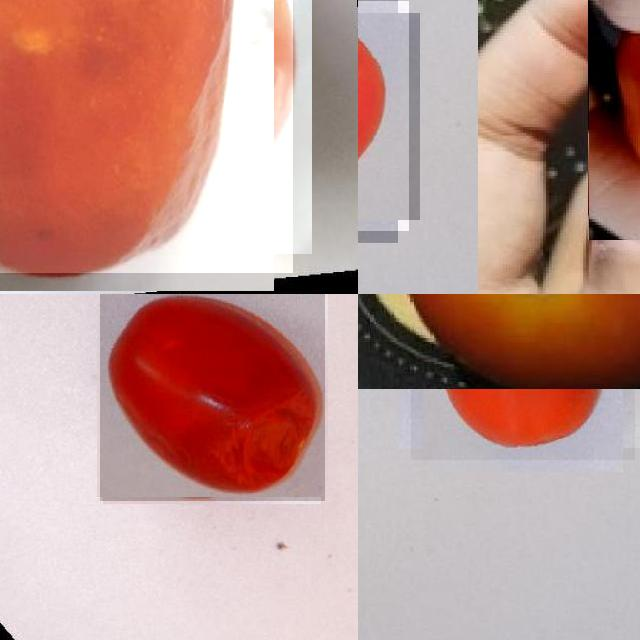1: (100, 294, 324, 500)
Fresh Tomato: (388, 294, 640, 389), (411, 389, 635, 460), (358, 1, 409, 231)
Rotten Tomato: (0, 0, 293, 272)
